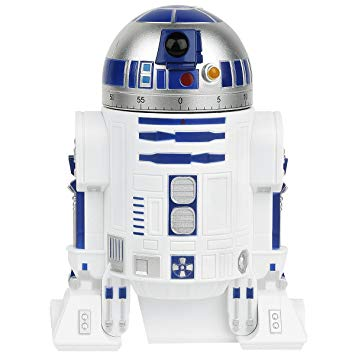r2d2: (51, 5, 306, 348)
